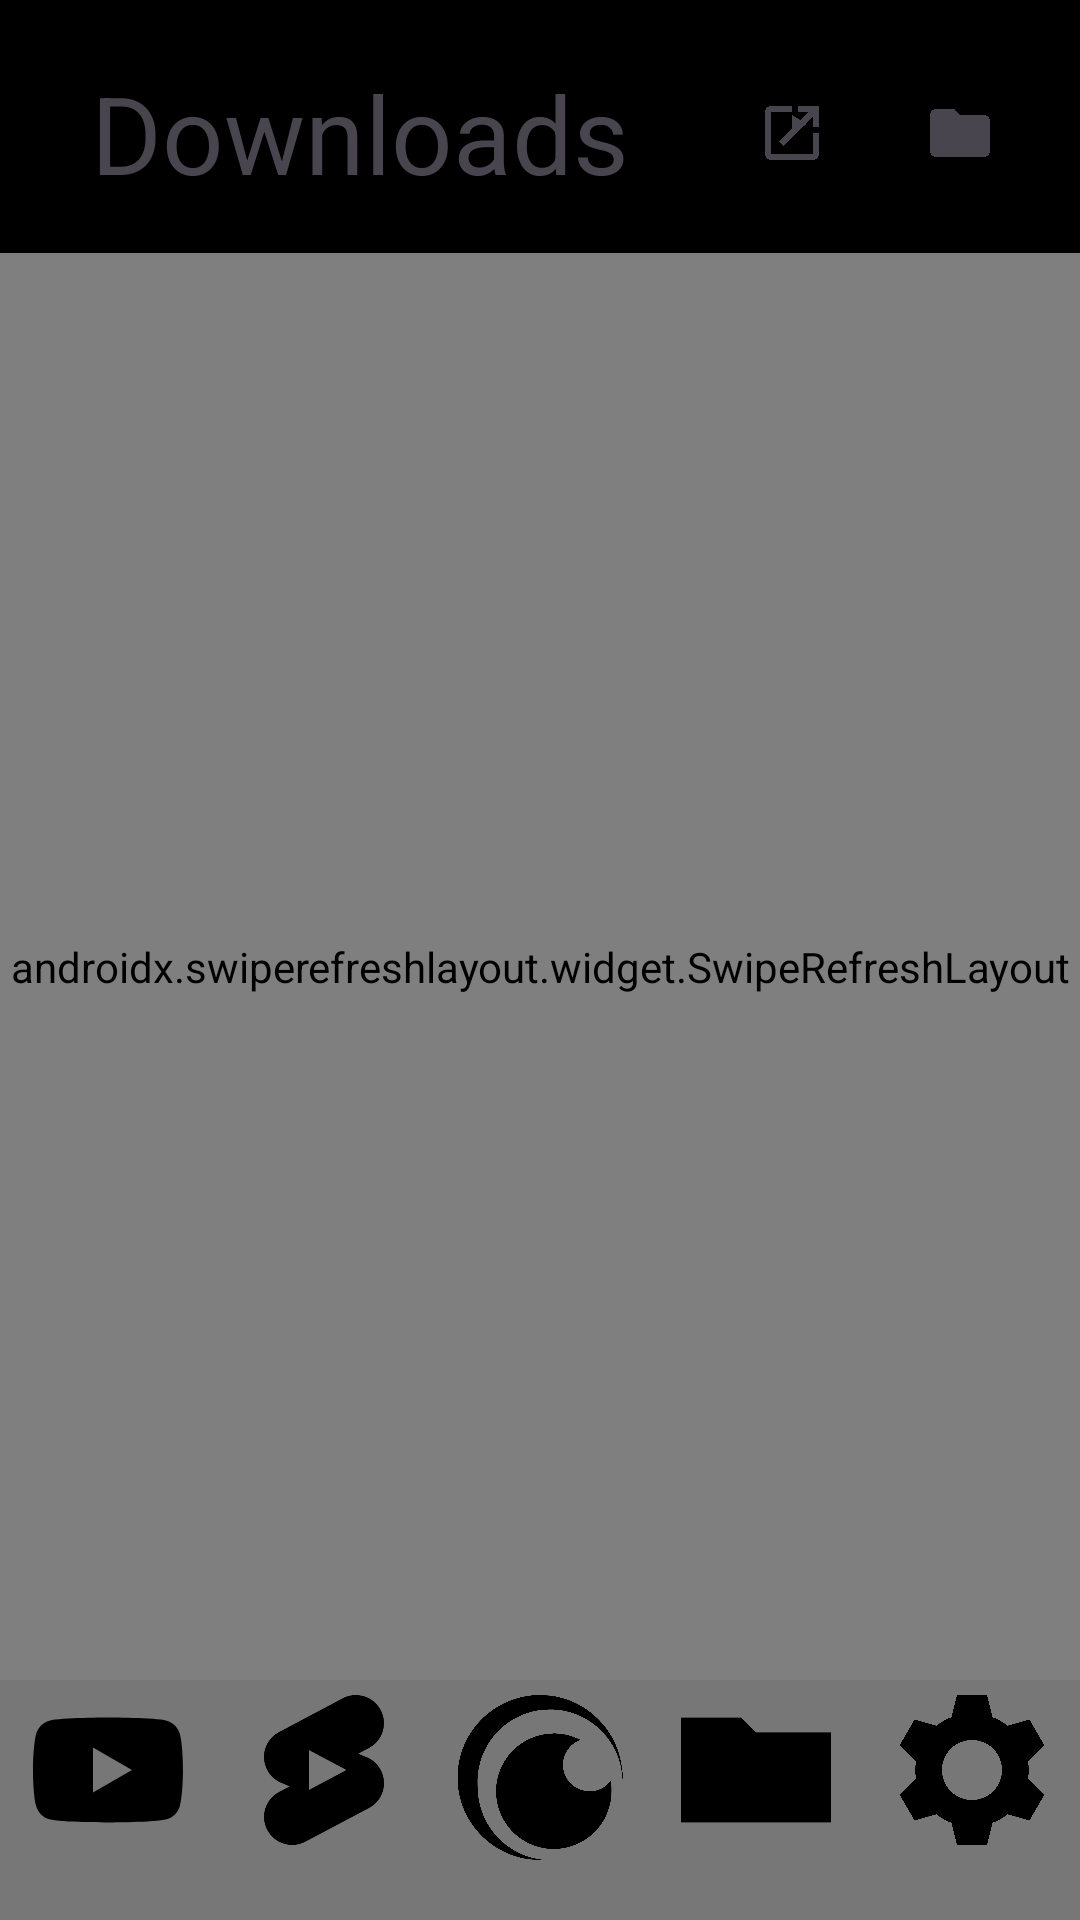

Named icons in this screenshot (1080*1920) and their centers, (x=x, y=y):
Downloads: (x=756, y=1770)
Settings: (x=972, y=1770)
